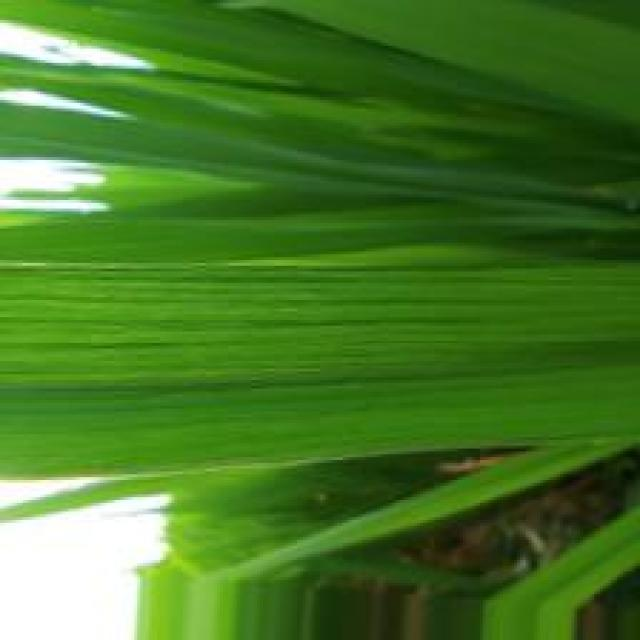HealthyLeaf: (0, 267, 635, 441), (235, 108, 635, 238), (281, 10, 640, 91)
